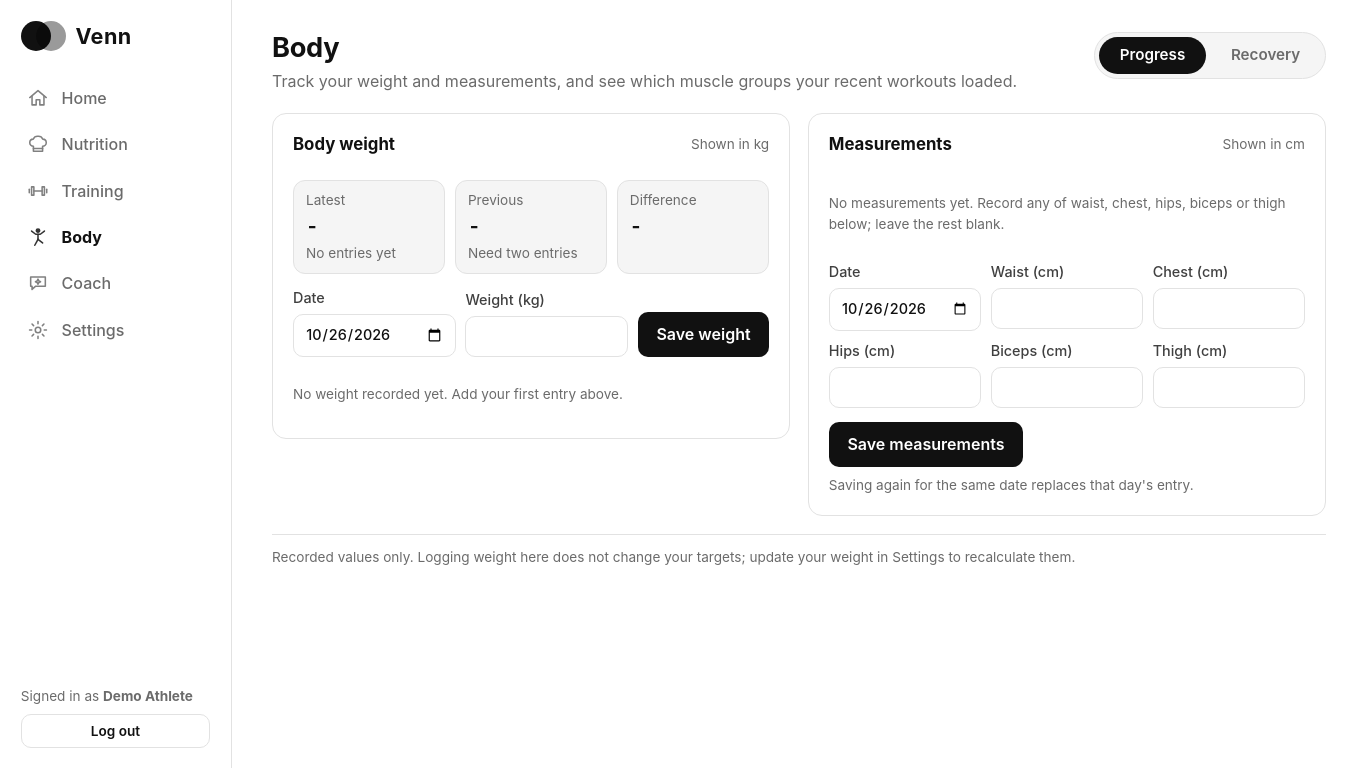
Test: body: progress › shows empty states, rejects implausible weights, then compares latest and previous
The width and height of the screenshot is (1366, 768).
Expected: the text "No entries yet" is shown, left=306, top=245, right=396, bottom=261
Expected: the text "No measurements yet" is shown, left=829, top=195, right=1286, bottom=232
Type "12" into the number field labelled "Weight (kg)" at point(547, 336), box left=465, top=316, right=628, bottom=357
Click the button "Save weight" at point(704, 334), box left=638, top=312, right=769, bottom=357
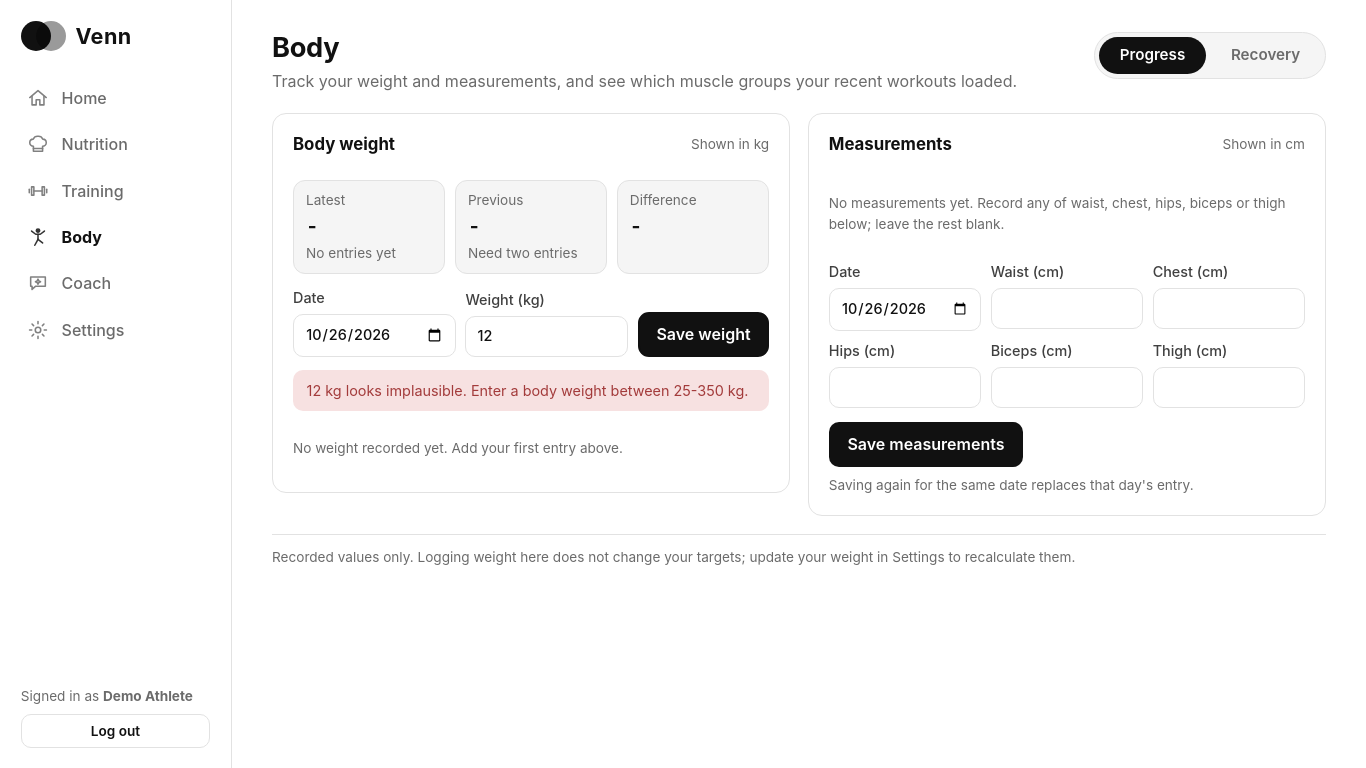
Result: the message shows "looks implausible" at left=307, top=382, right=748, bottom=399
Type "2026-10-19" into the date field labelled "Date" below "Weight (" at point(374, 335), box left=293, top=314, right=456, bottom=357
Replace the text in the number field labelled "Weight (kg)" with "82.4" at point(547, 336), box left=465, top=316, right=628, bottom=357
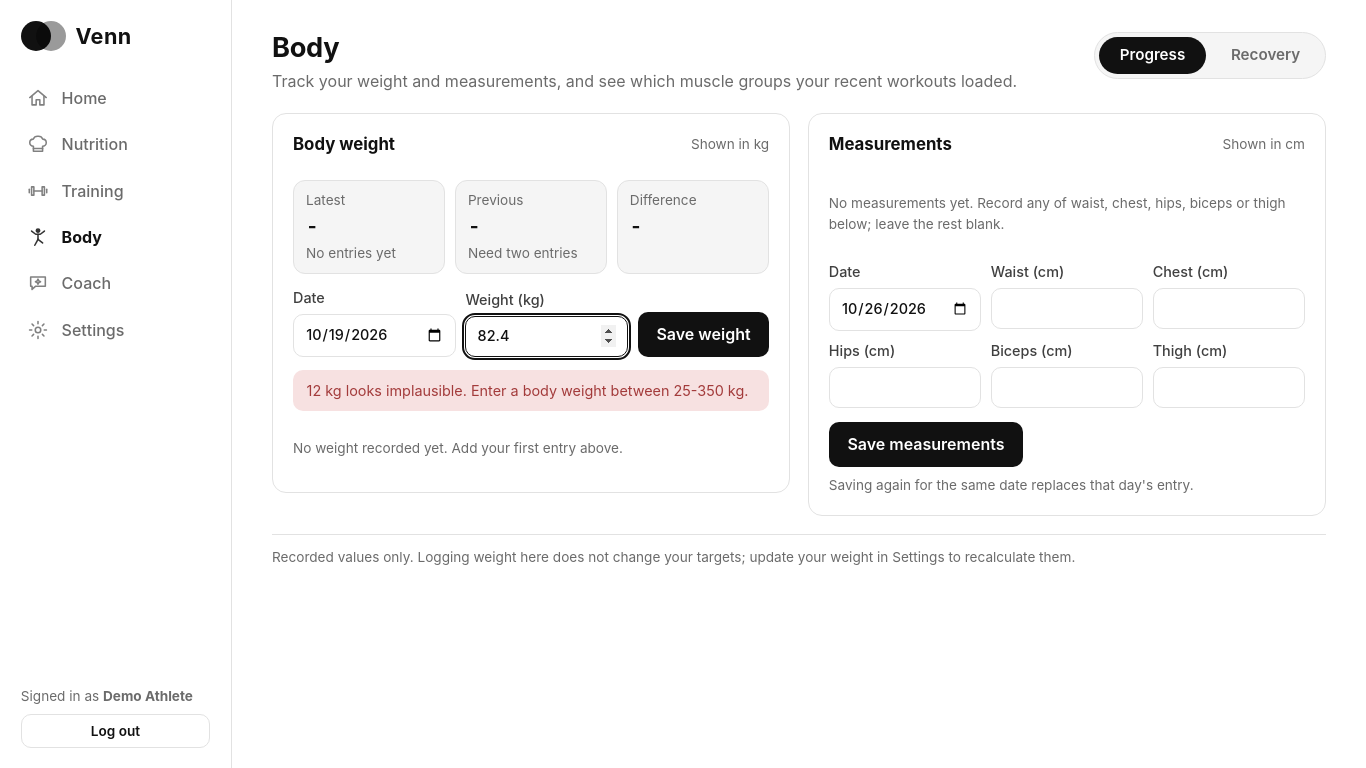
Click the button "Save weight" at point(704, 334), box left=638, top=312, right=769, bottom=357
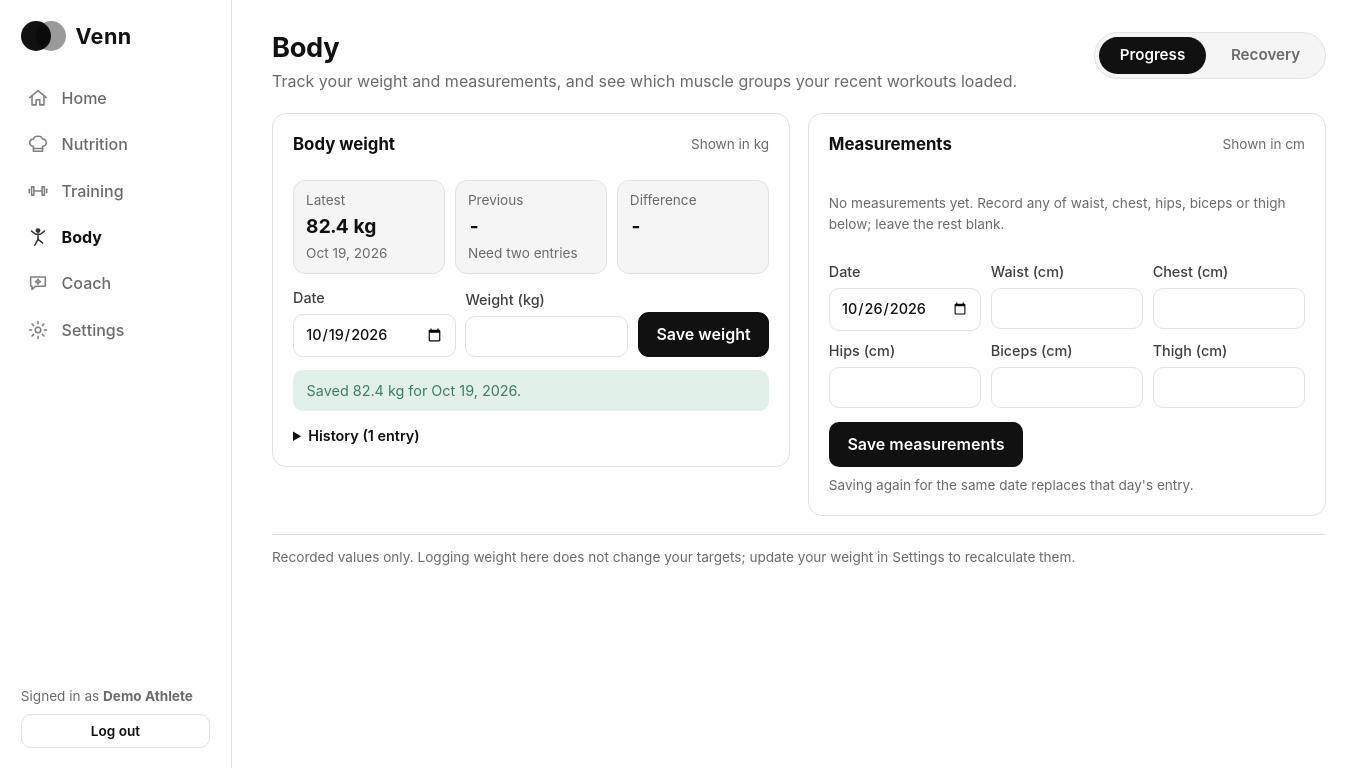
Type "2026-10-26" into the date field labelled "Date" below "Weight (" at point(374, 335), box left=293, top=314, right=456, bottom=357
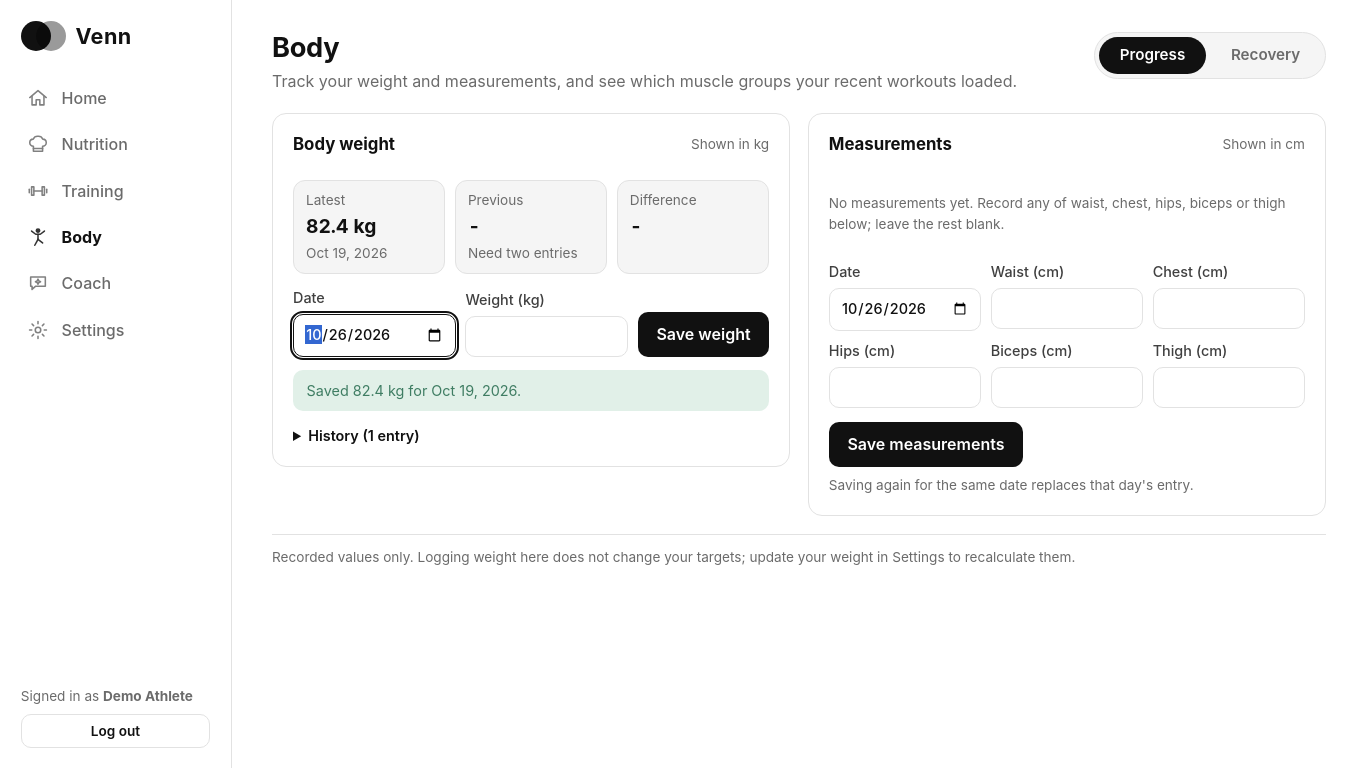
Type "81.9" into the number field labelled "Weight (kg)" at point(547, 336), box left=465, top=316, right=628, bottom=357
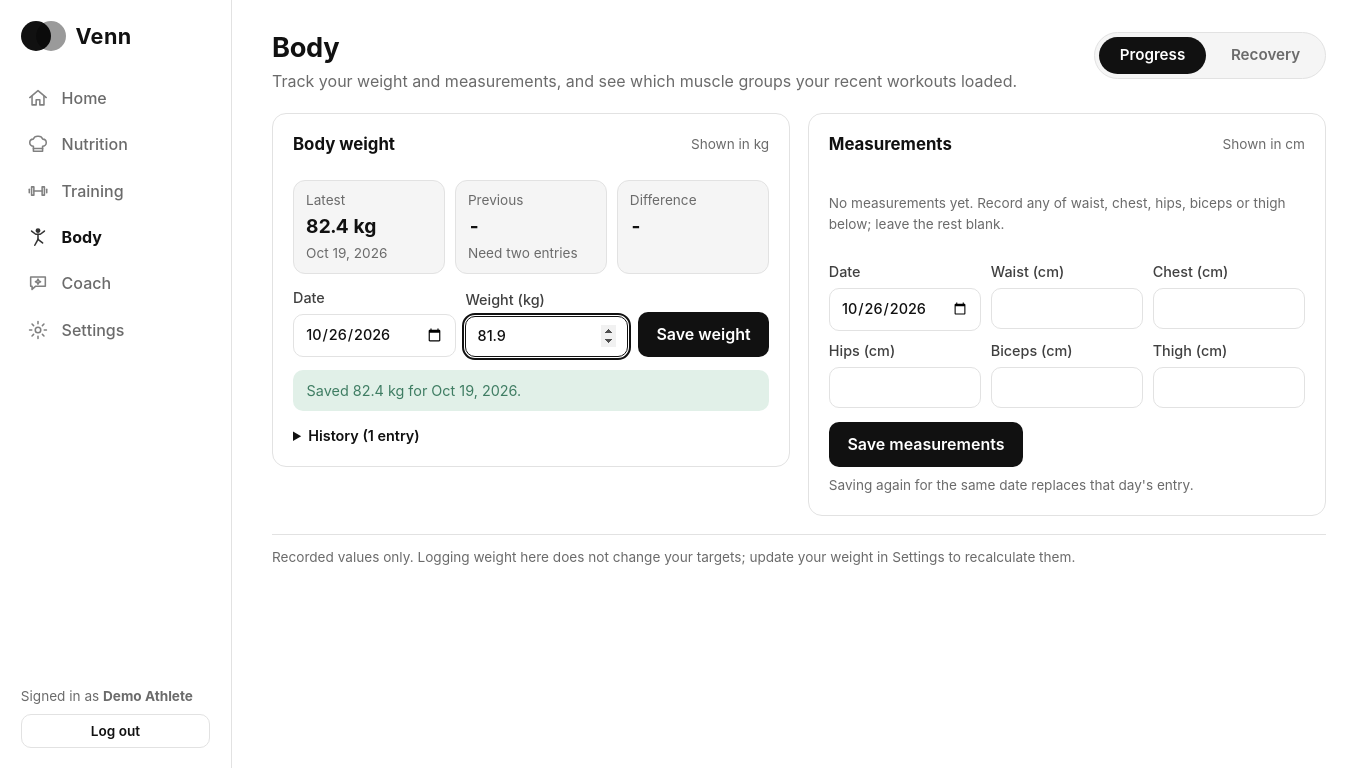
Click the button "Save weight" at point(704, 334), box left=638, top=312, right=769, bottom=357
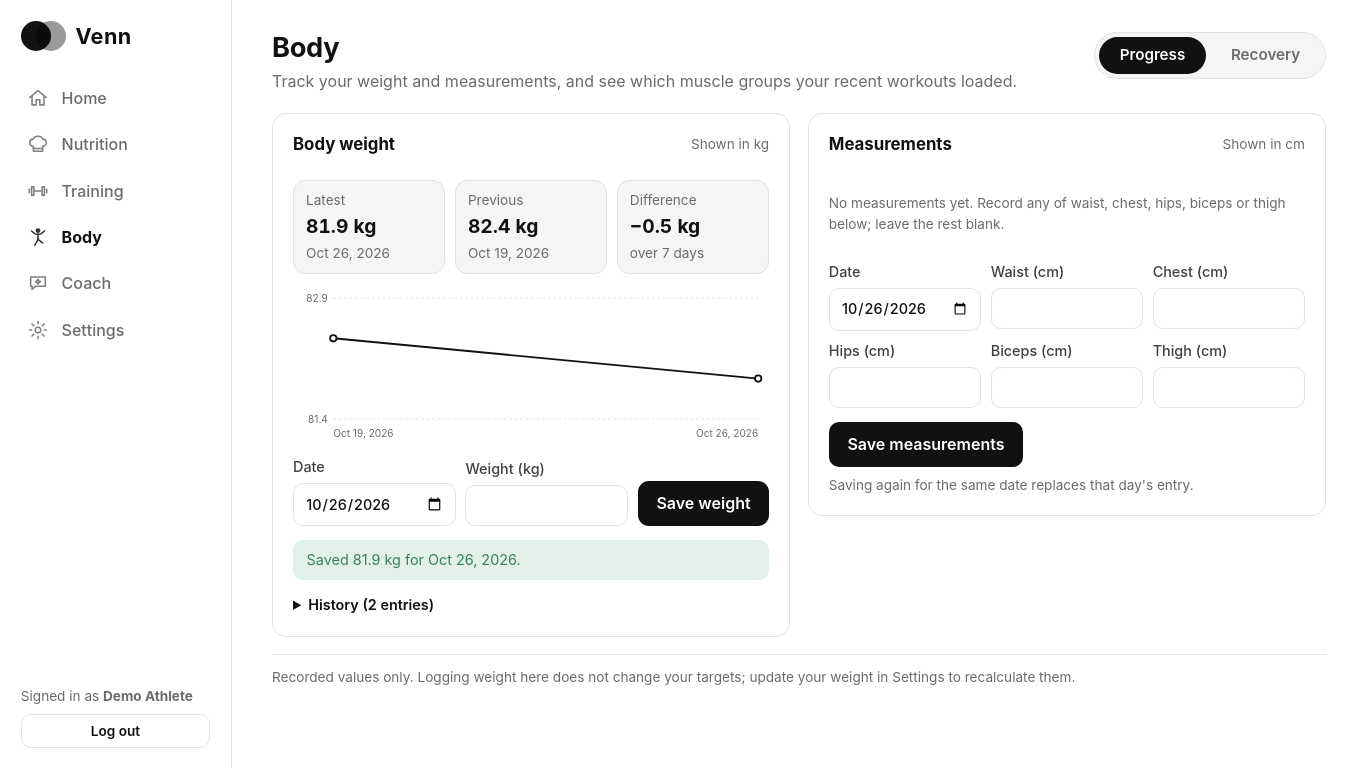
Result: the text with test id "weight-change" reads "−0.5 kg" at left=630, top=214, right=700, bottom=238
Result: the picture named "Weight chart: 2 entries" is shown at left=293, top=287, right=769, bottom=443
